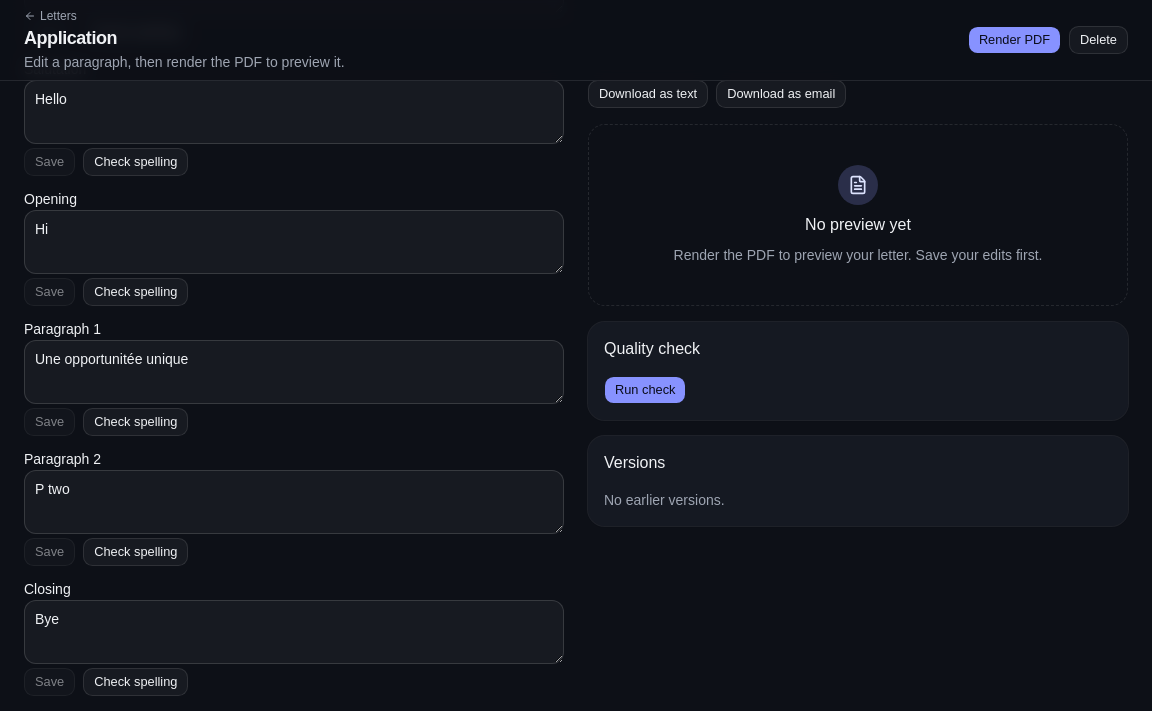
spelling: check one paragraph, apply a correction into the draft, then save it
(page scrolled)
Click the button with aria-label "Check spelling of Paragraph 1" at {"x": 136, "y": 422}, box left=83, top=408, right=188, bottom=436
(page scrolled)
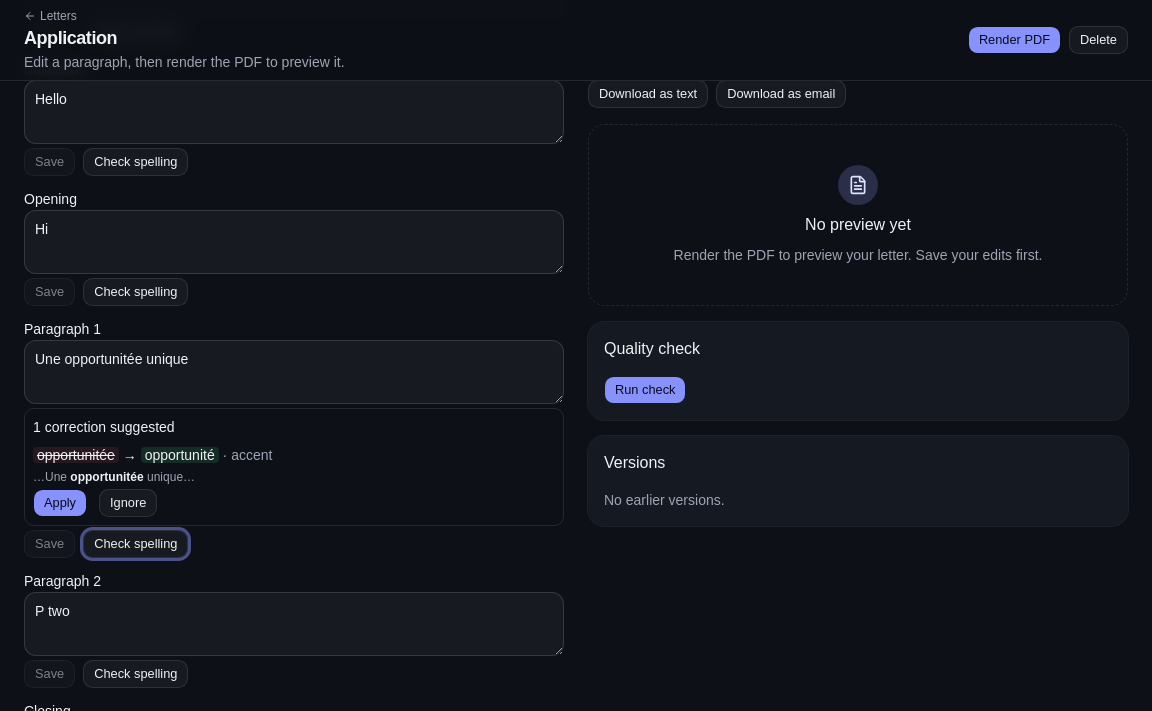
Expected: the text box labelled "Paragraph 1" holds "Une opportunitée unique", left=24, top=340, right=564, bottom=404
Click the button with aria-label "Apply 1 of 1: opportunitée" at {"x": 60, "y": 503}, box left=33, top=489, right=87, bottom=517
(page scrolled)
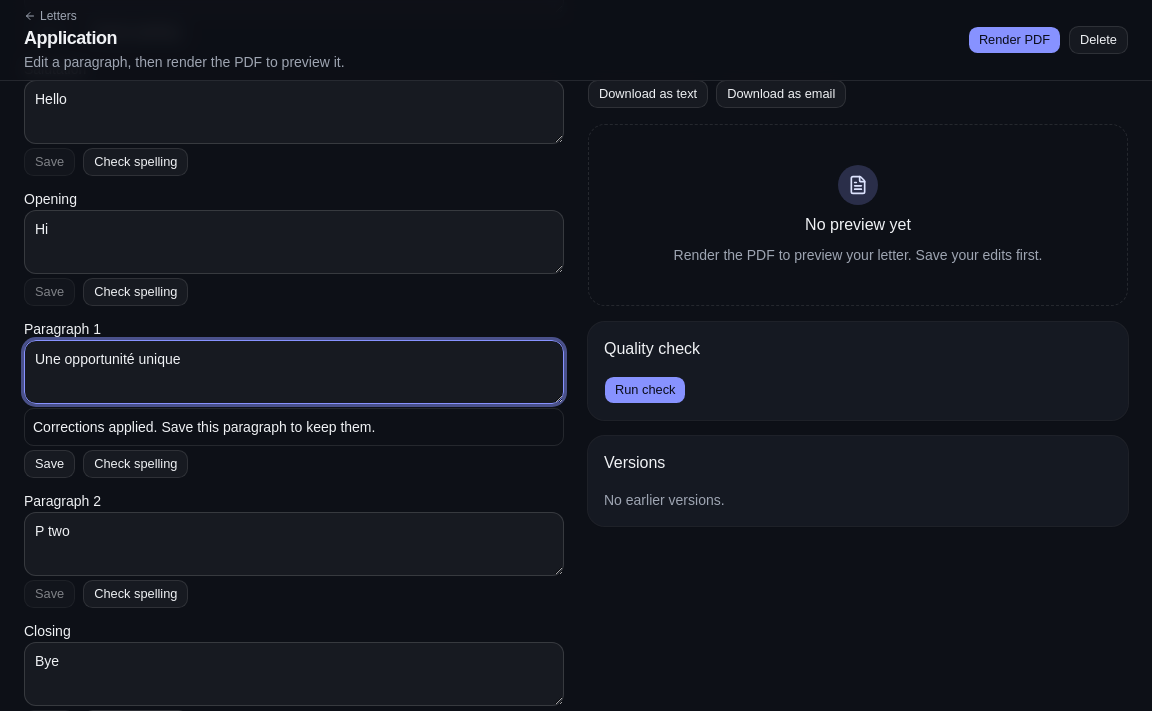
Expected: the text box labelled "Paragraph 1" holds "Une opportunité unique", left=24, top=340, right=564, bottom=404
Expected: the button with aria-label "Save Paragraph 1" is enabled, left=24, top=450, right=75, bottom=478
Expected: the text "Corrections applied. Save this paragraph to keep them." is shown, left=33, top=419, right=375, bottom=435
